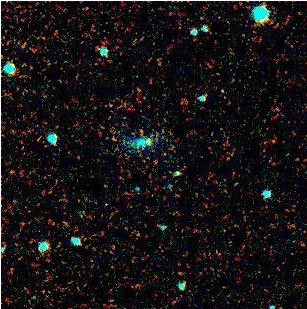star: (135, 129, 165, 159)
